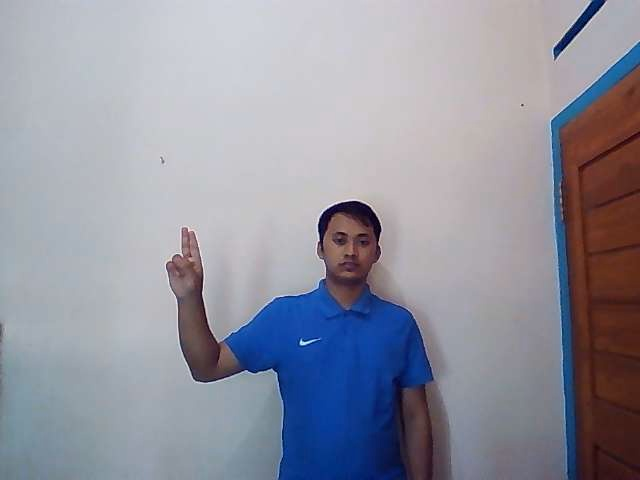U: (165, 226, 205, 298)
